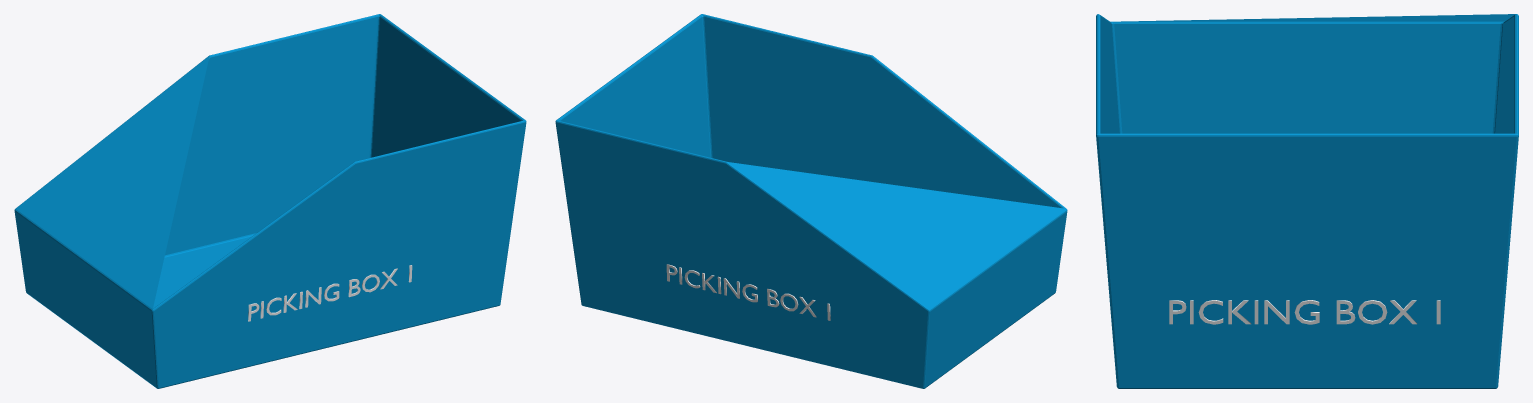
3 renders of one model, left to right at view 1: azimuth 30°, elevation 25°; view 2: azimuth 150°, elevation 25°; view 3: azimuth 270°, elevation 25°, orthographic. The views are drawn at different scales.
Visible parts, largest first — view 1: picking-bin-1; view 2: picking-bin-1; view 3: picking-bin-1.
Part boxes in pixels (left/top/right/bottom): picking-bin-1: left=14, top=14, right=526, bottom=388; picking-bin-1: left=555, top=14, right=1067, bottom=388; picking-bin-1: left=1096, top=14, right=1518, bottom=388.
Size of the model in its own units: 0.4373 by 0.21 by 0.2998.
